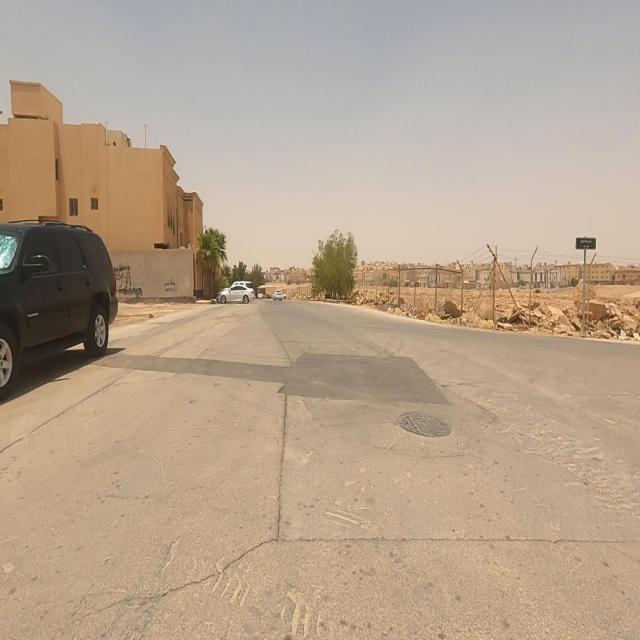Graffiti: (118, 265, 143, 296), (163, 279, 179, 294)
